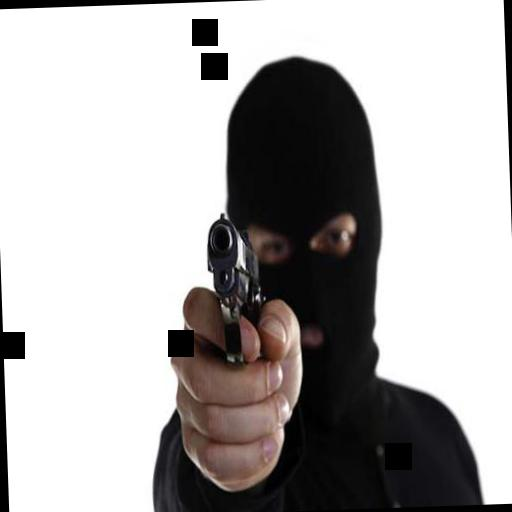Handgun: (202, 210, 268, 364)
